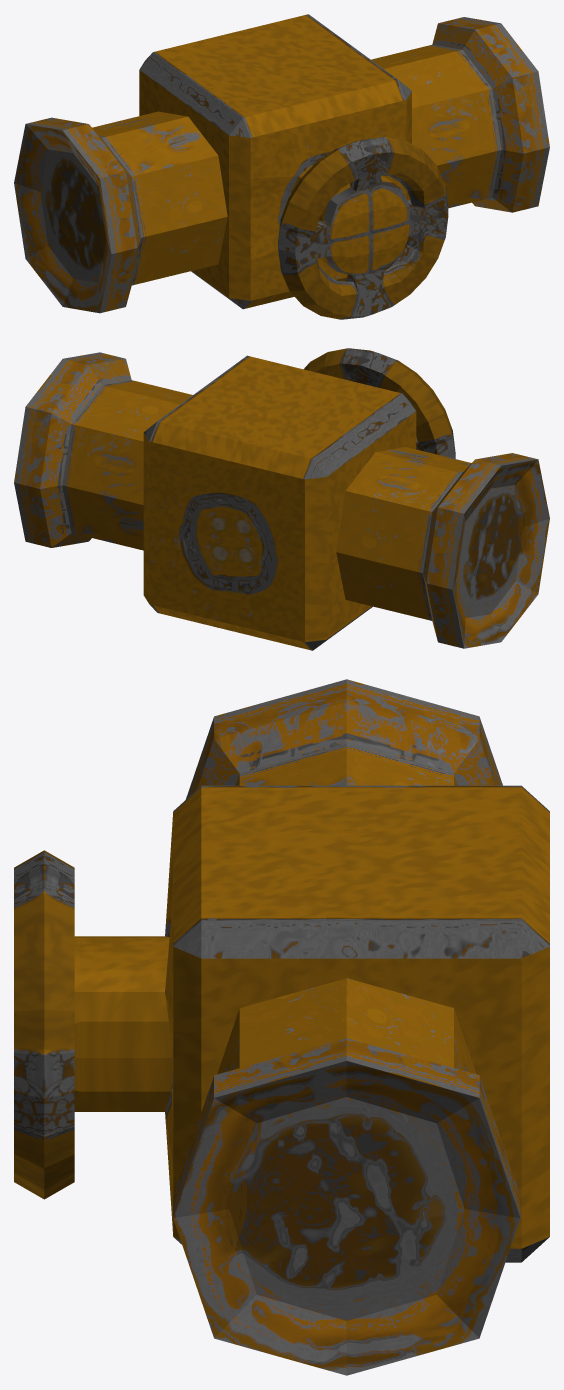
File: pipe_inter_straight.fbx
3 renders of one model, top to bottom at view 1: azimuth 30°, elevation 25°; view 2: azimuth 150°, elevation 25°; view 3: azimuth 270°, elevation 25°, orthographic. The views are drawn at different scales.
Visible parts, largest first — view 1: Cube.004, Cube.012; view 2: Cube.004, Cube.012; view 3: Cube.004, Cube.012.
Part boxes in pixels (x1,y1,x2,y2): Cube.004: (139, 14, 448, 319); Cube.012: (14, 17, 549, 313); Cube.004: (143, 348, 455, 650); Cube.012: (14, 352, 549, 648); Cube.004: (14, 785, 549, 1262); Cube.012: (173, 679, 520, 1375).
Bounding box in the file's own units: 644 × 269 × 382.
